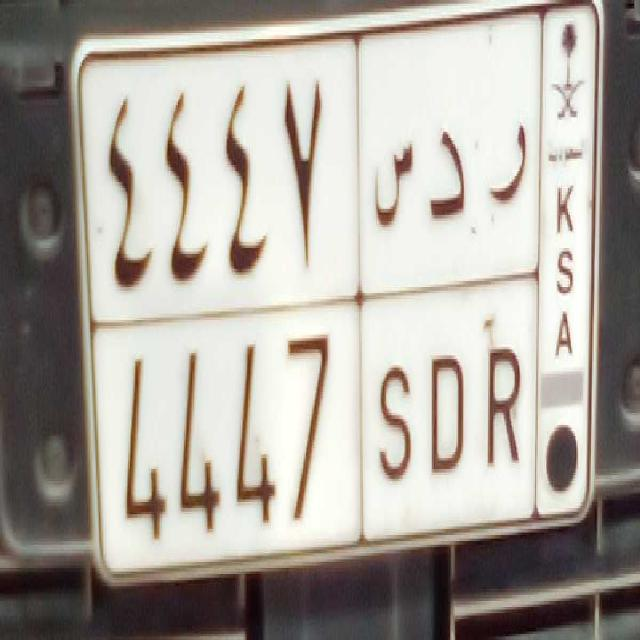license_plate: (106, 291, 534, 554)
